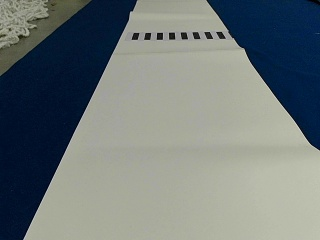crosswalk: (128, 30, 225, 40)
